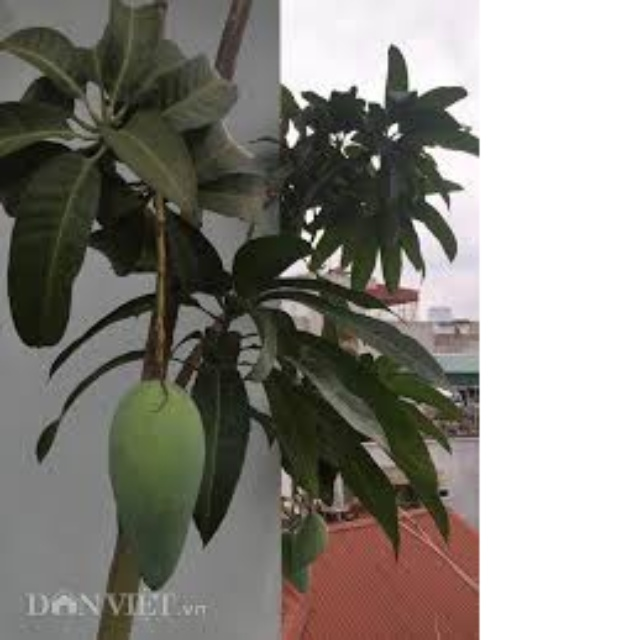thanh_long: (99, 375, 219, 590)
